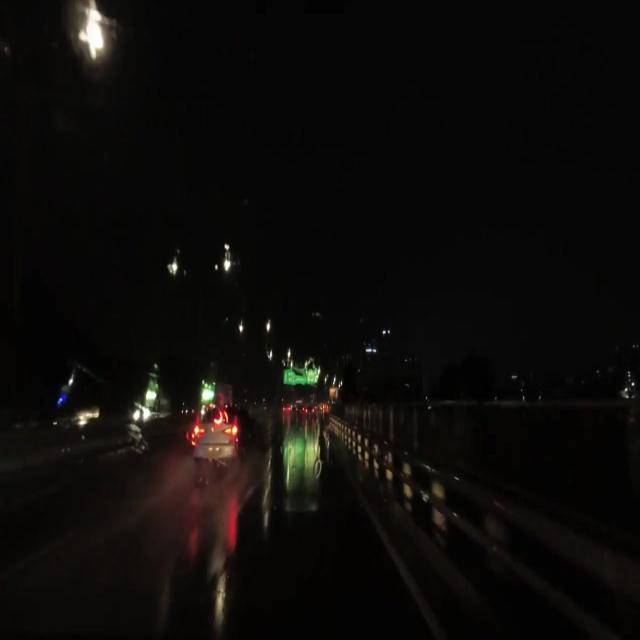Car: (188, 403, 255, 471)
